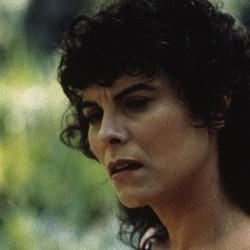face: (52, 5, 245, 213)
